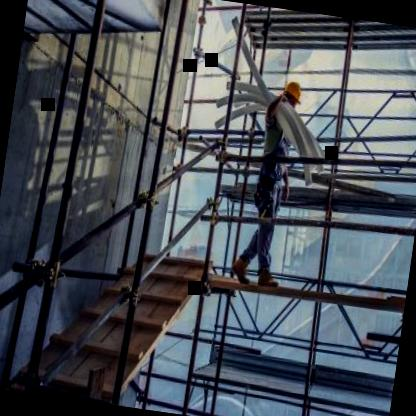helmet: (278, 80, 301, 116)
